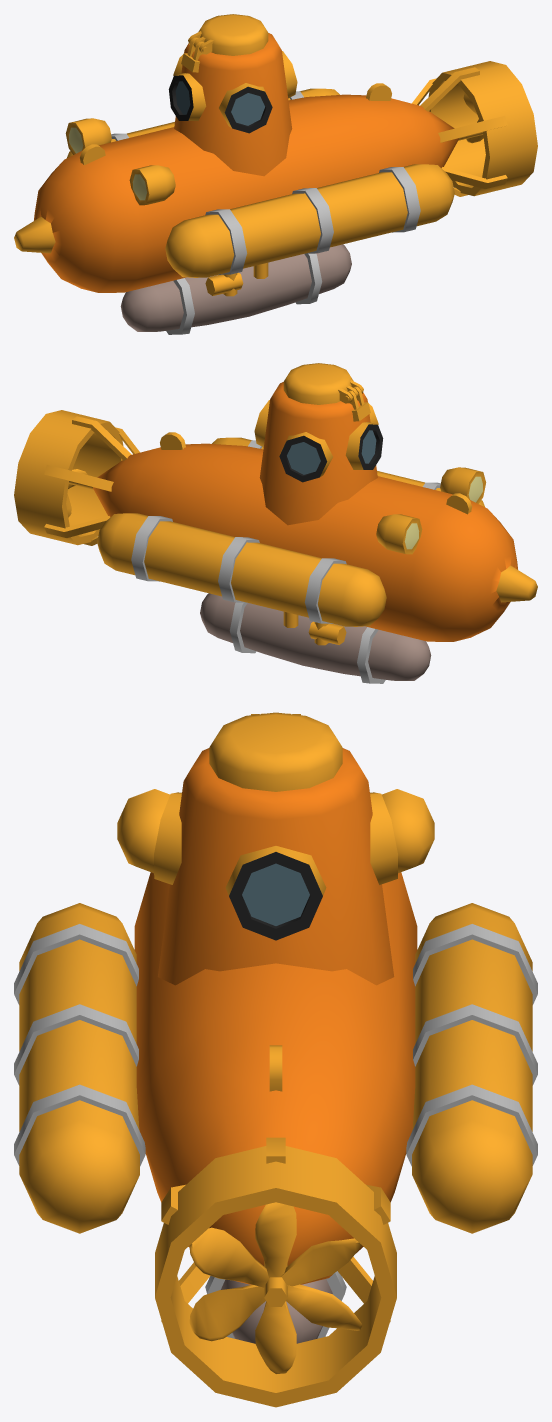
The model's file is Submarine.glb.
3 renders of one model, top to bottom at view 1: azimuth 30°, elevation 25°; view 2: azimuth 150°, elevation 25°; view 3: azimuth 270°, elevation 25°, orthographic. The views are drawn at different scales.
Visible parts, largest first — view 1: Water_Ship_002; view 2: Water_Ship_002; view 3: Water_Ship_002.
Part boxes in pixels (box(x1,y1,x2,y2)): Water_Ship_002: box(14, 14, 537, 334); Water_Ship_002: box(14, 363, 537, 683); Water_Ship_002: box(14, 712, 537, 1407).
Size of what is drawn, in the model's own units: 6.99 by 4.04 by 3.43.
Materials: 1 (1 with a texture image).
